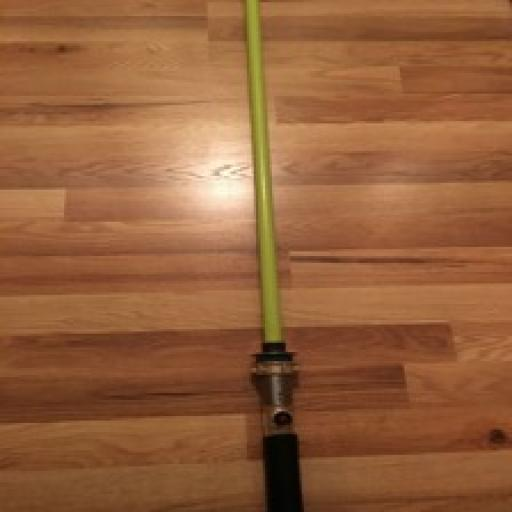lightsaber: (233, 0, 309, 512)
